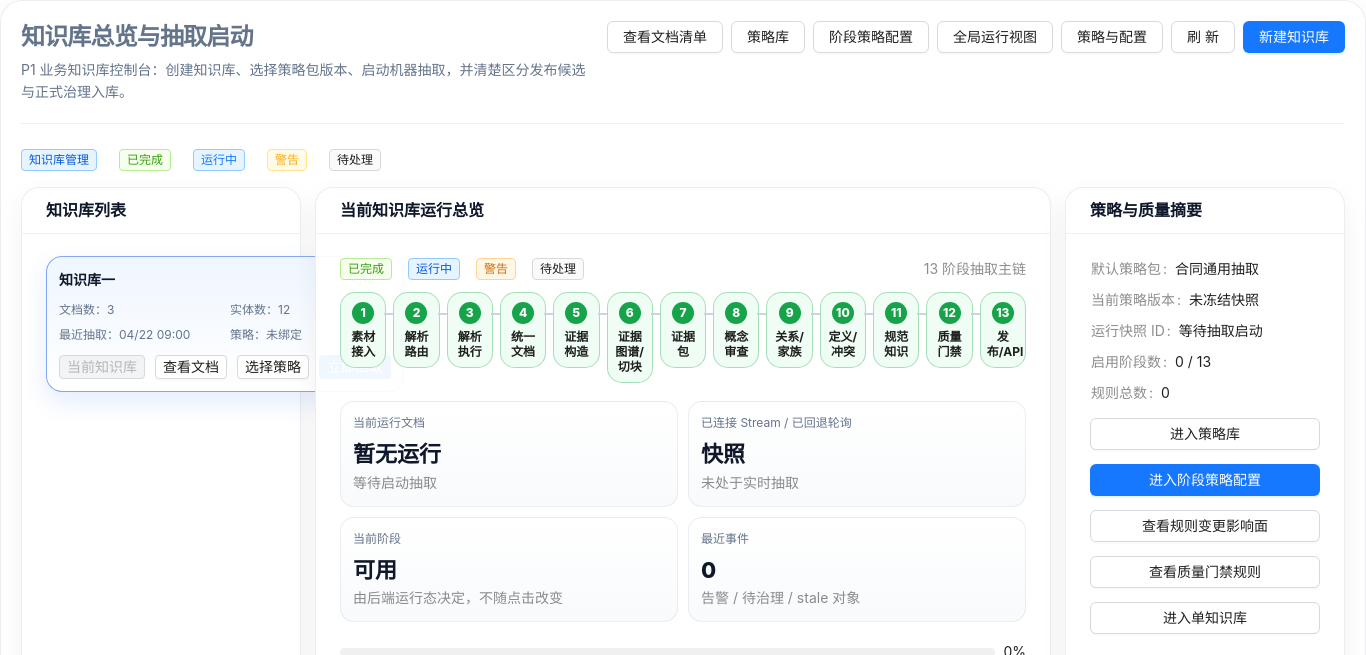
Test: loads policy config from backend and shows editable stage form
Click the button "策略与配置" at (1112, 37), box [1061,21,1163,53]
(page scrolled)
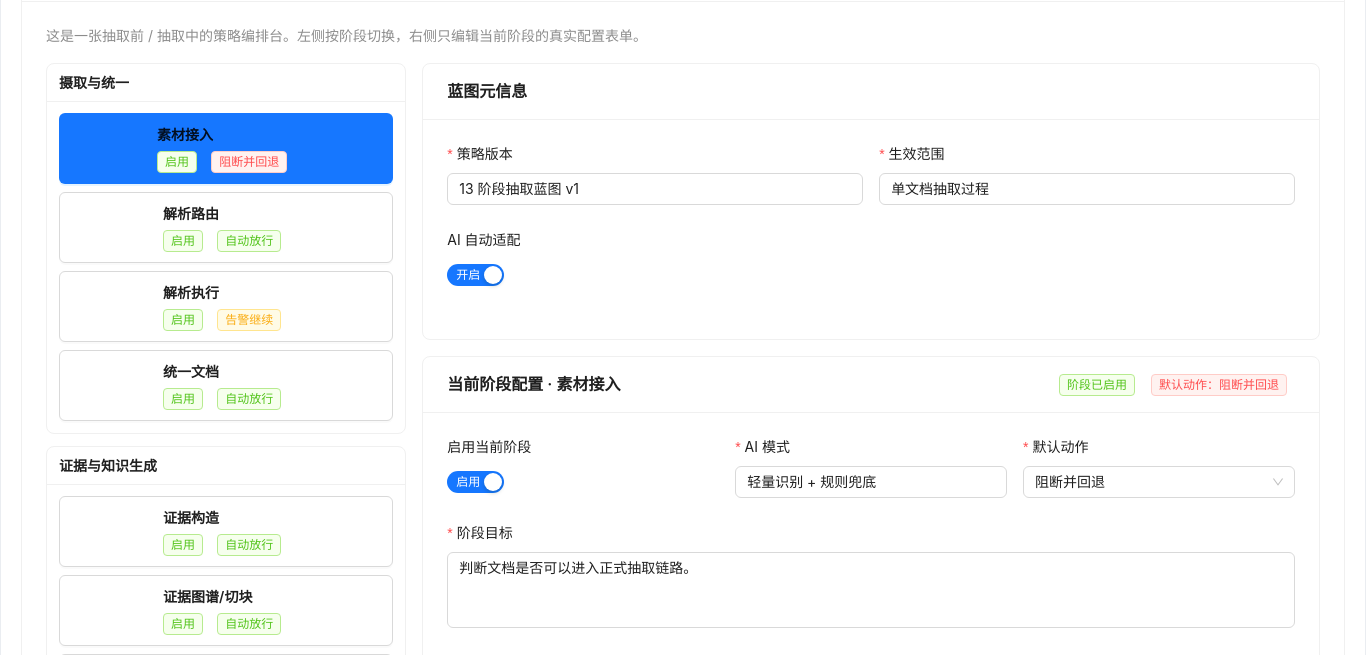
Expected: the text "蓝图元信息" is shown, [447,81,527,101]
Expected: the field showing "13 阶段抽取蓝图 v1" is shown, [447,173,863,205]
Expected: the text "当前阶段配置 · 素材接入" is shown, [447,374,620,394]
